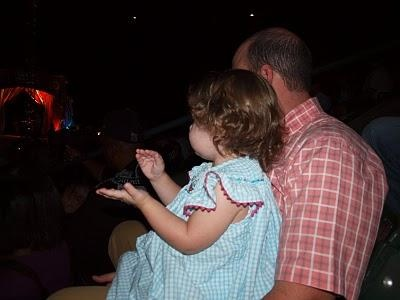person without safety: (163, 63, 292, 300)
